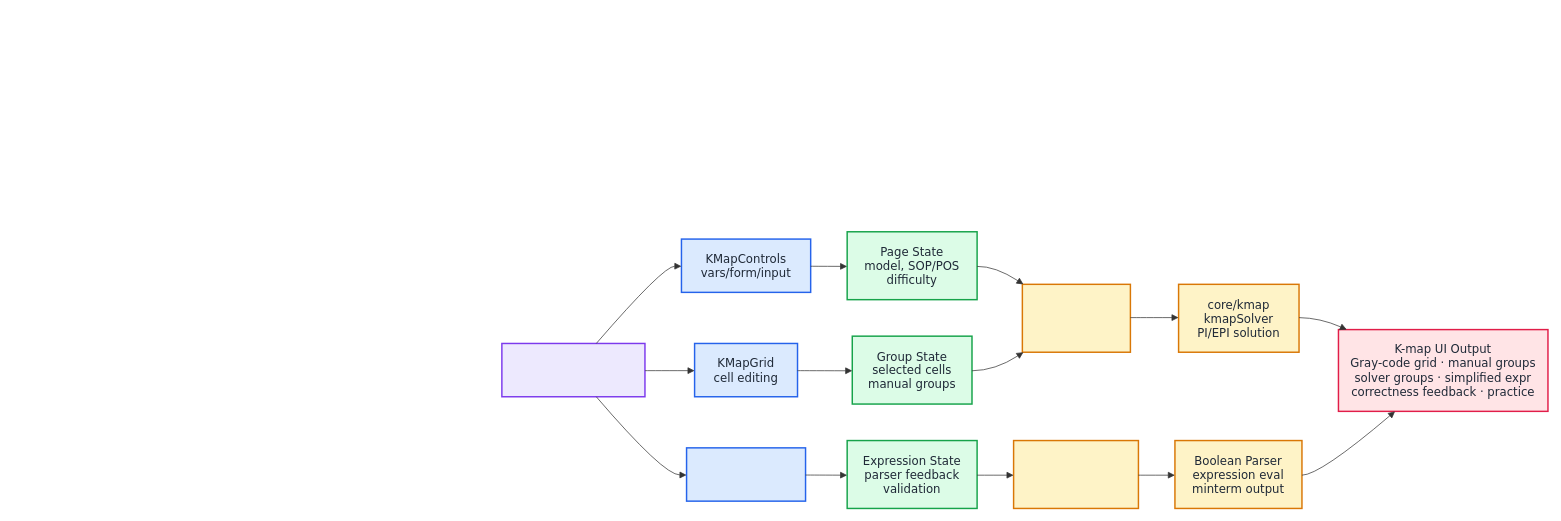
The diagram is 1561 pixels wide and 521 high, and some of its shapes have lost their labels. Here are the shapes that lost their labels. From the top down, the centre of each, then its label:
At pixel 1076 318: "core/kmap kmapModel cells/groups".
At pixel 573 369: "K-map Page src/features/kmap".
At pixel 745 474: "Result Panels solver/manual".
At pixel 1076 474: "kmapPageUtils input parsers expression utils".
